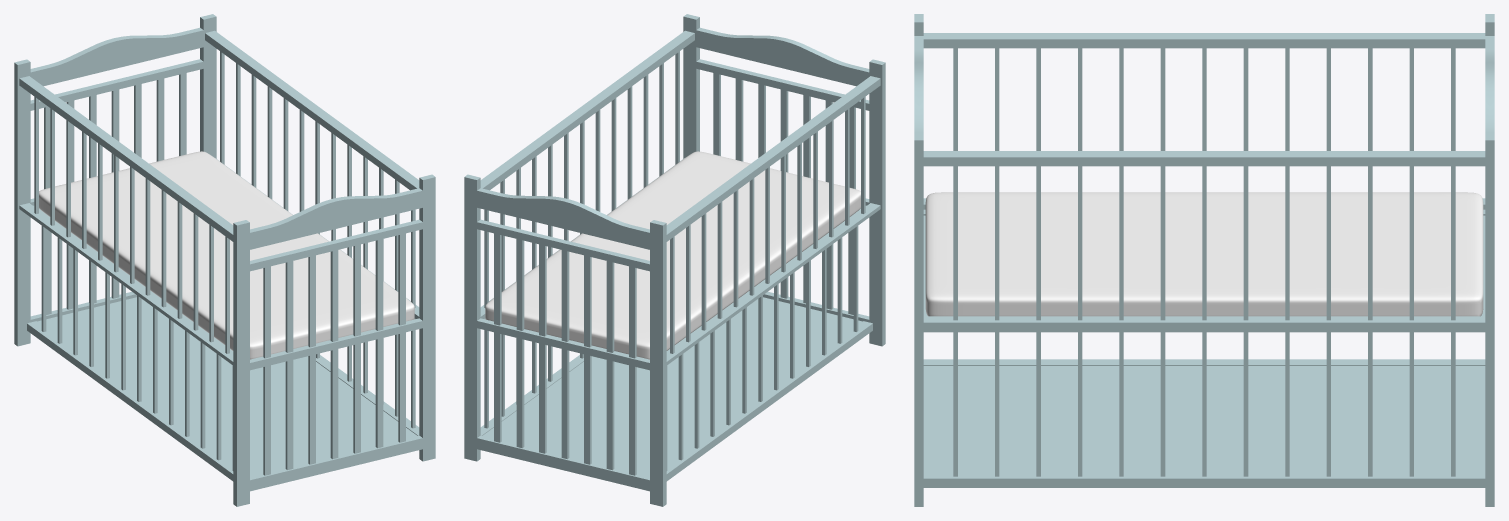
Rendered from 1071_crib.glb.
3 renders of one model, left to right at view 1: azimuth 30°, elevation 25°; view 2: azimuth 150°, elevation 25°; view 3: azimuth 270°, elevation 25°, orthographic. The views are drawn at different scales.
Visible parts, largest first — view 1: Body1, mat, Body2; view 2: Body1, mat, Body2; view 3: Body1, mat, Body2.
Part boxes in pixels (<box>): Body1: <box>14,14,435,506</box>; mat: <box>39,151,414,359</box>; Body2: <box>19,76,233,365</box>; Body1: <box>464,14,885,506</box>; mat: <box>485,151,860,359</box>; Body2: <box>666,76,880,365</box>; Body1: <box>914,14,1494,506</box>; mat: <box>925,192,1483,316</box>; Body2: <box>923,33,1485,209</box>.
Bounding box in the file's own units: 0.6714 × 0.9081 × 1.3.
